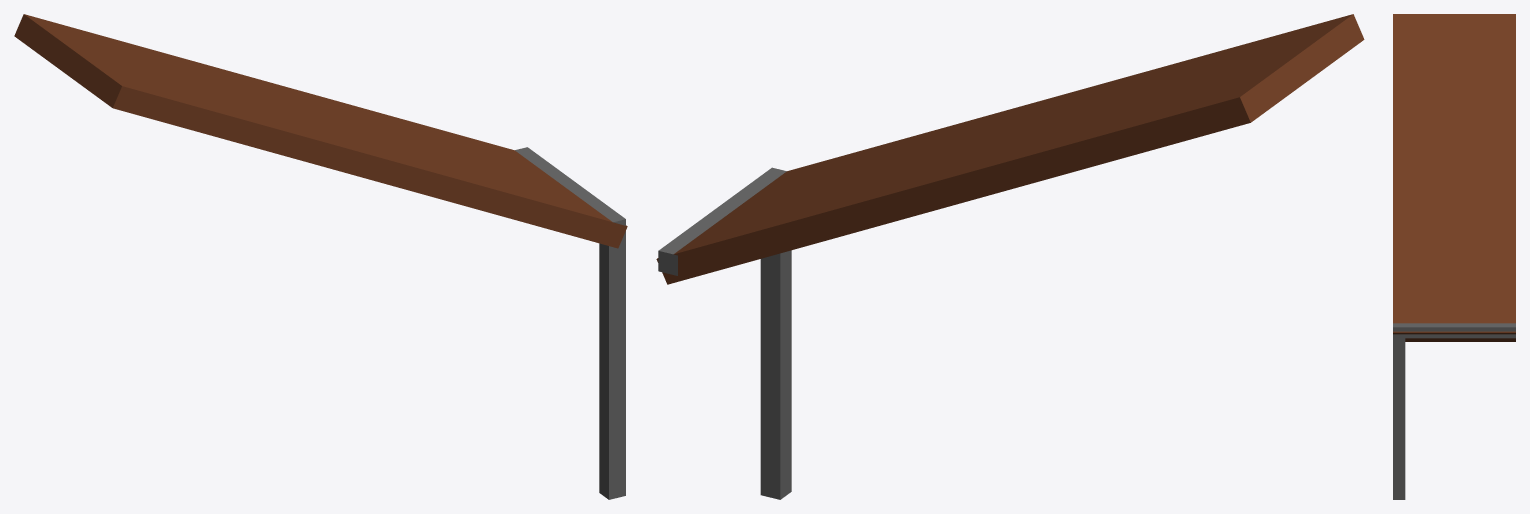
The picture shows the model from 3 angles, left to right: view 1: azimuth 30°, elevation 25°; view 2: azimuth 150°, elevation 25°; view 3: azimuth 270°, elevation 25°; orthographic projection. The views are drawn at different scales.
Parts seen in each view (by area): view 1: Cube.090, Cube.089, Cube.085; view 2: Cube.090, Cube.089, Cube.085; view 3: Cube.090, Cube.089, Cube.085.
Part boxes in pixels (<box>): Cube.090: <box>14,14,627,248</box>; Cube.089: <box>599,235,625,499</box>; Cube.085: <box>515,147,625,237</box>; Cube.090: <box>656,14,1364,284</box>; Cube.089: <box>760,250,791,499</box>; Cube.085: <box>658,167,786,275</box>; Cube.090: <box>1393,14,1515,341</box>; Cube.089: <box>1393,334,1405,499</box>; Cube.085: <box>1393,323,1515,338</box>.
Size of the model in its own units: 302 by 298 by 100.
